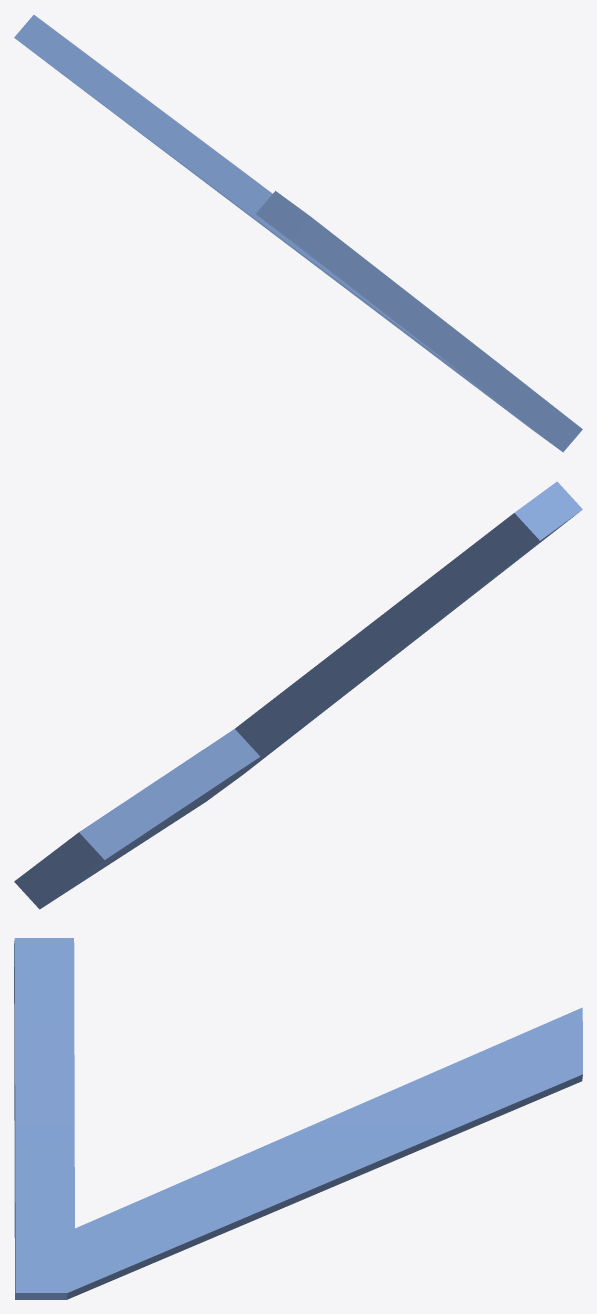
Rendered from New_Number_7.gltf.
3 views of the same model, one above another, from view 1: azimuth 30°, elevation 25°; view 2: azimuth 150°, elevation 25°; view 3: azimuth 270°, elevation 25° (orthographic). The views are drawn at different scales.
Visible parts, largest first — view 1: Part 259; view 2: Part 259; view 3: Part 259.
Boxes of the visible parts, box(x1,y1,x2,y2) form: Part 259: box(14, 15, 582, 452); Part 259: box(14, 481, 582, 909); Part 259: box(14, 938, 582, 1299).
Bounding box in the file's own units: 0.00282 × 0.00274 × 0.00551.
